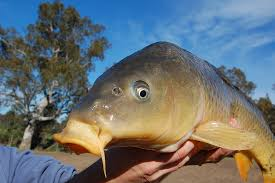carp: (53, 40, 275, 181)
